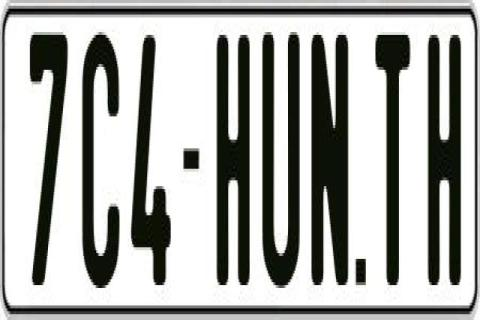0: (131, 26, 174, 288), (29, 29, 70, 294)
C: (81, 32, 124, 288)
H: (428, 32, 466, 285), (216, 32, 250, 300)
N: (310, 32, 348, 282)
T: (374, 35, 410, 294)
U: (260, 27, 298, 297)
